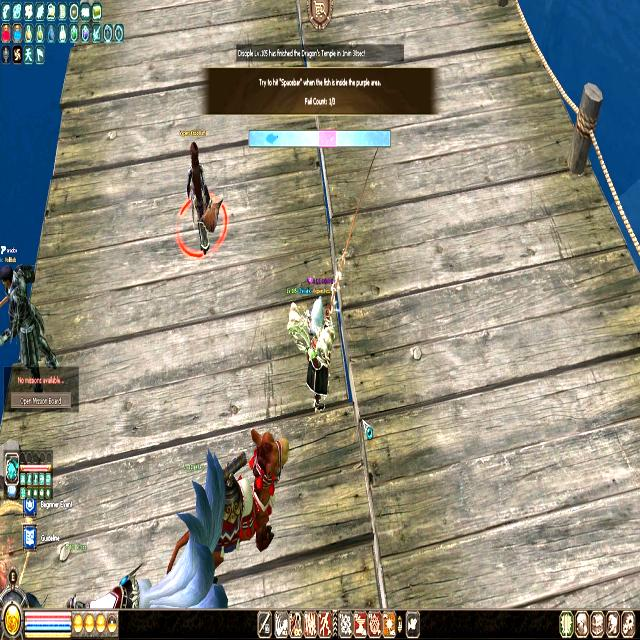fishes: (266, 132, 278, 144)
